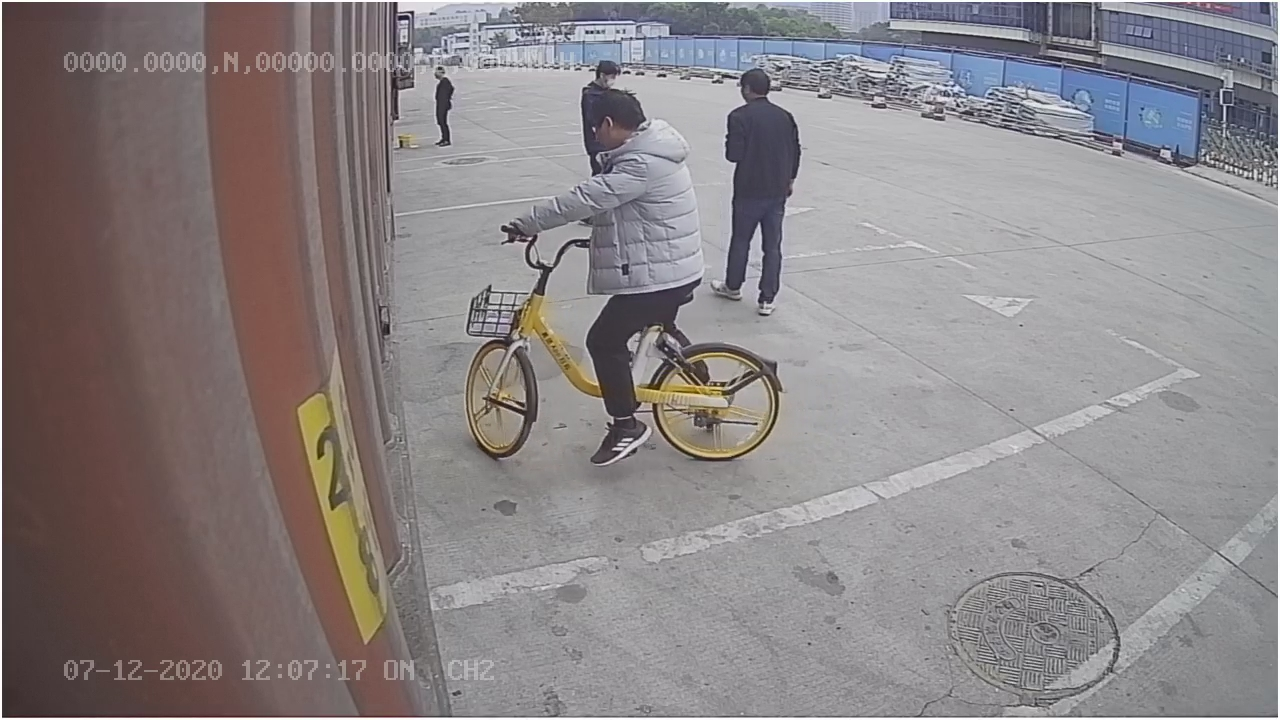person: (709, 62, 802, 317)
